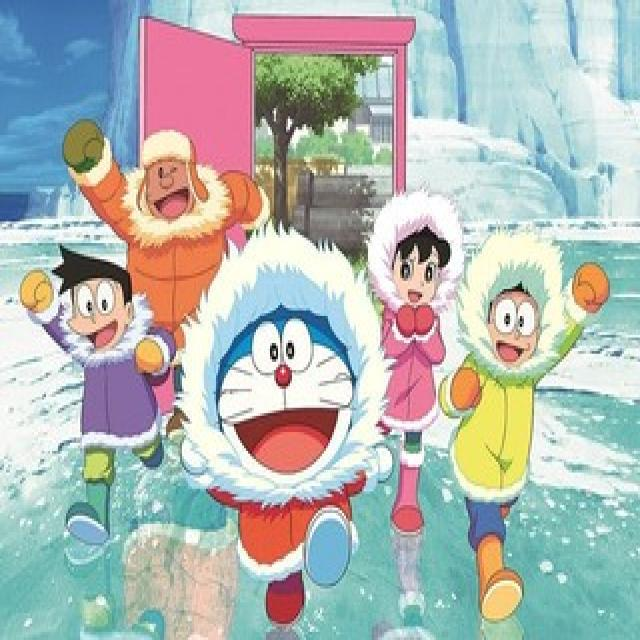doraemon: (190, 265, 378, 521)
jaian: (126, 108, 224, 246)
nobita: (476, 273, 560, 383)
shizuka: (384, 214, 462, 338)
suneo: (34, 232, 156, 384)
